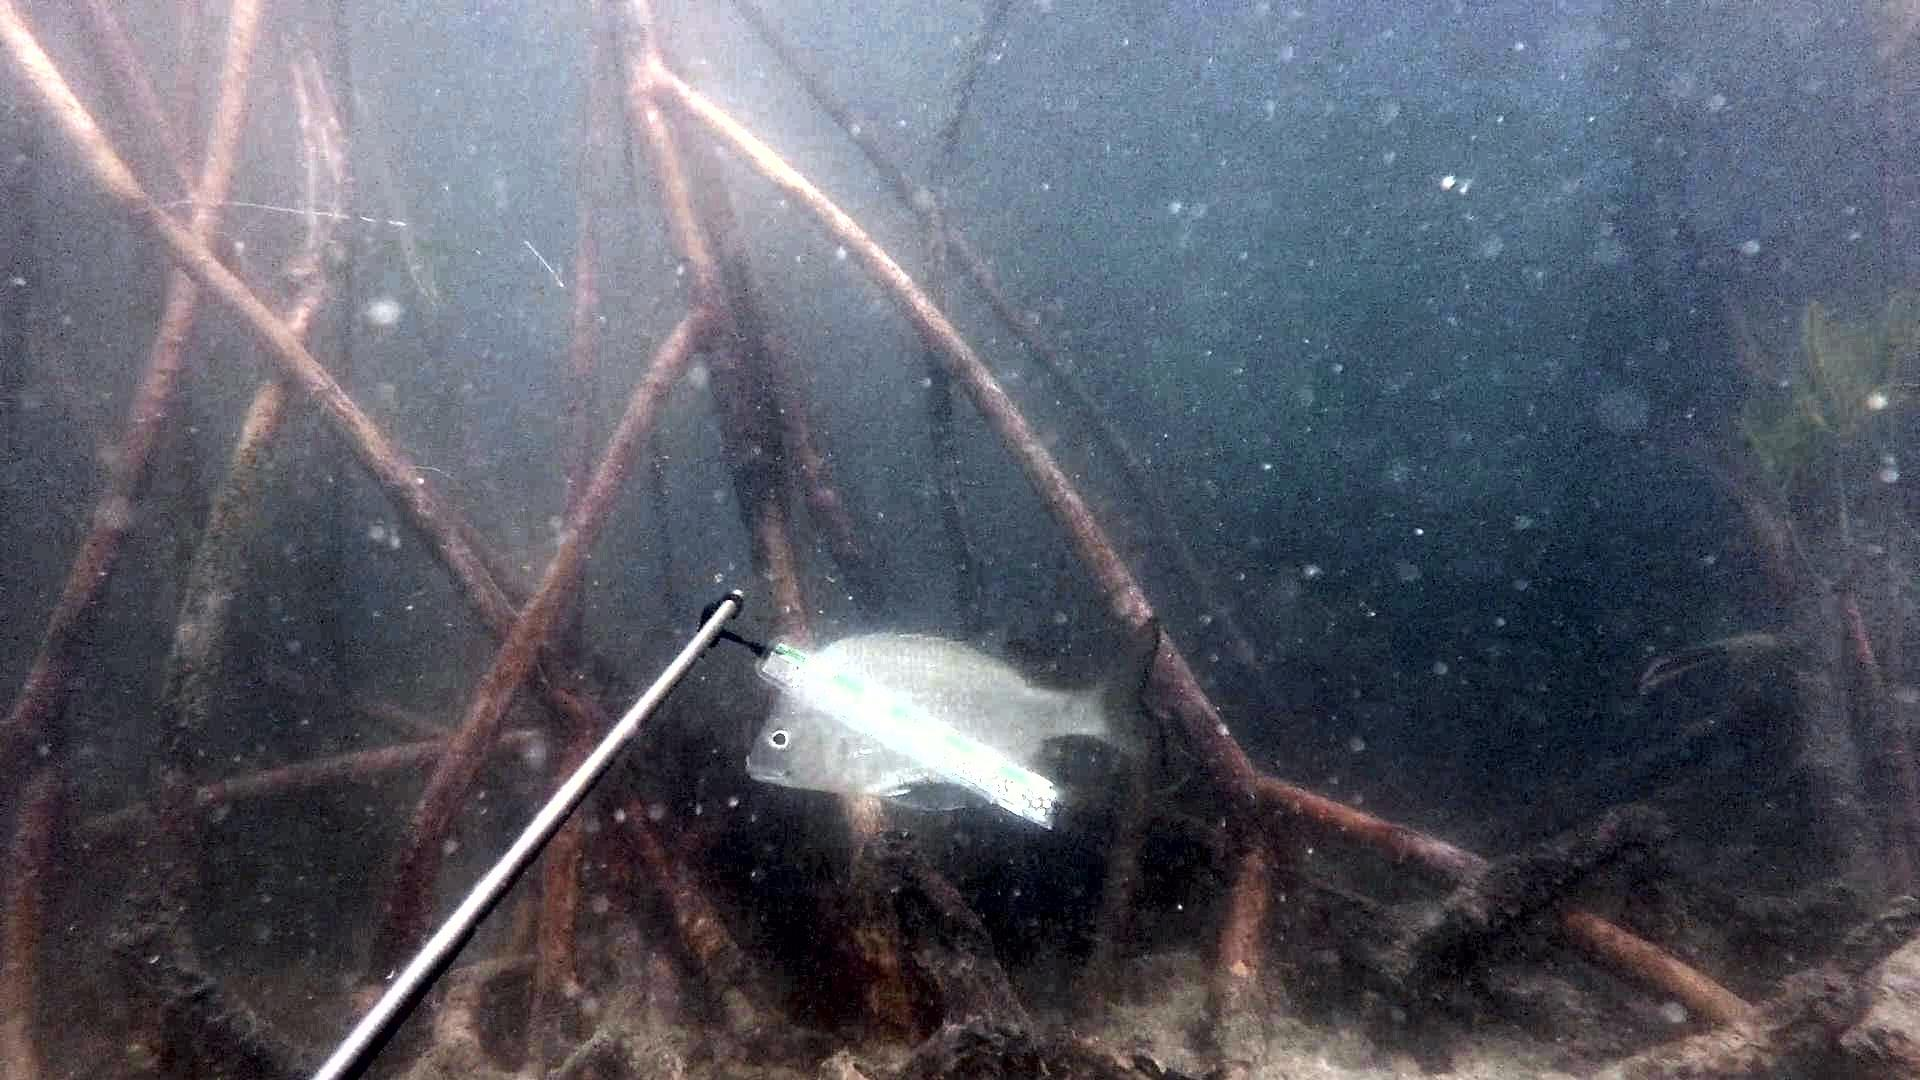acanthopagrus palmaris: (736, 611, 1179, 828)
